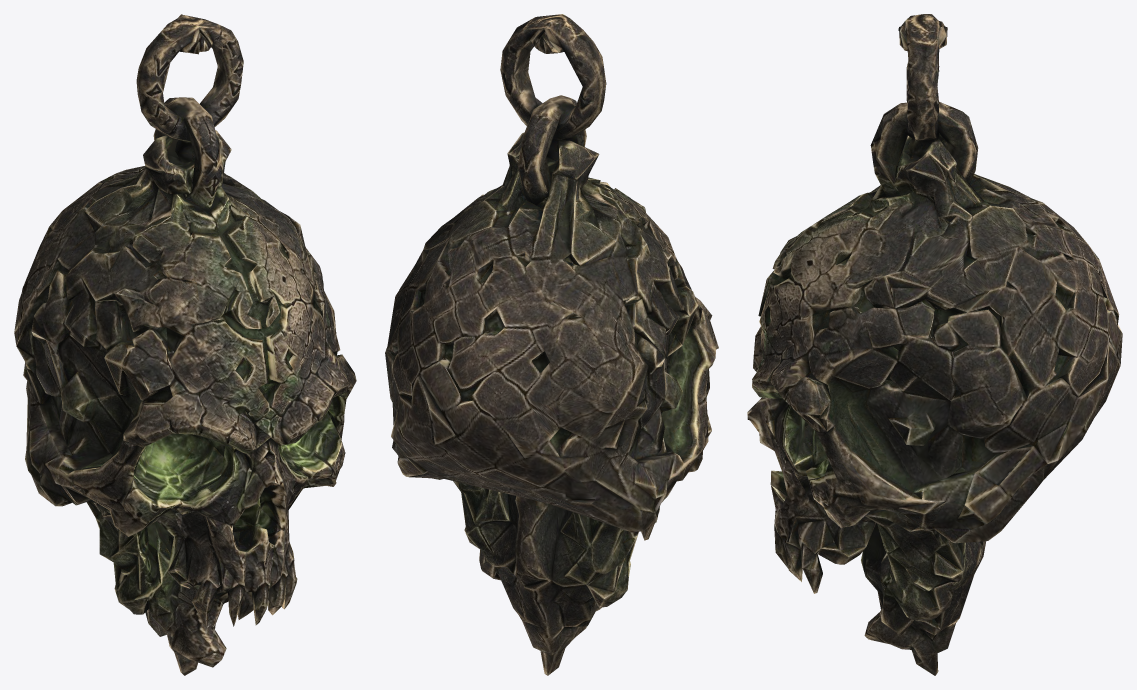
File: set-necrotic-charm.glb
3 renders of one model, left to right at view 1: azimuth 30°, elevation 25°; view 2: azimuth 150°, elevation 25°; view 3: azimuth 270°, elevation 25°, orthographic.
Parts seen in each view (by area): view 1: Motion_Control; view 2: Motion_Control; view 3: Motion_Control.
Part boxes in pixels (x1=…): Motion_Control: x1=14, y1=14, x2=356, y2=675; Motion_Control: x1=385, y1=14, x2=718, y2=675; Motion_Control: x1=747, y1=14, x2=1122, y2=675.
Bounding box in the file's own units: 0.8466 × 2 × 1.03.
Materials: 1 (1 with a texture image).
